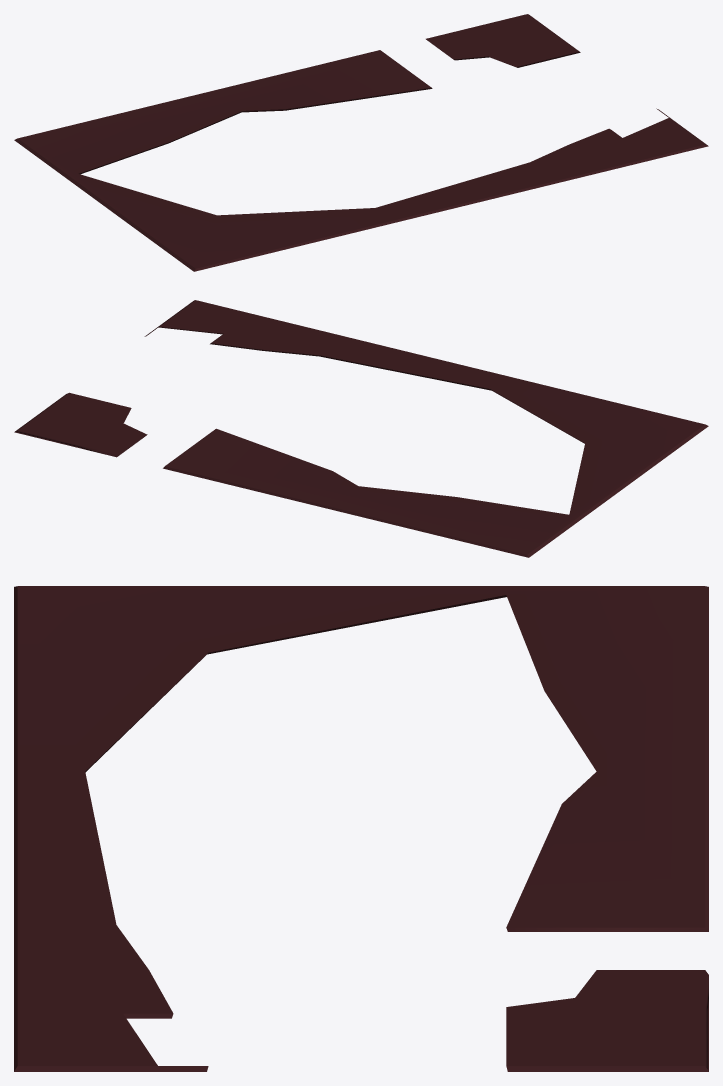
The model's file is SMall_TabelCoverBroken.fbx.
3 renders of one model, top to bottom at view 1: azimuth 30°, elevation 25°; view 2: azimuth 150°, elevation 25°; view 3: azimuth 270°, elevation 25°, orthographic. The views are drawn at different scales.
Visible parts, largest first — view 1: SMall_TabelBroken; view 2: SMall_TabelBroken; view 3: SMall_TabelBroken.
Part boxes in pixels (x1,y1,x2,y2): SMall_TabelBroken: (14, 14, 708, 271); SMall_TabelBroken: (14, 300, 708, 557); SMall_TabelBroken: (14, 586, 708, 1071).
Size of the model in its own units: 1.56 by 0.005 by 0.9467.
1 material, 1 textured.
